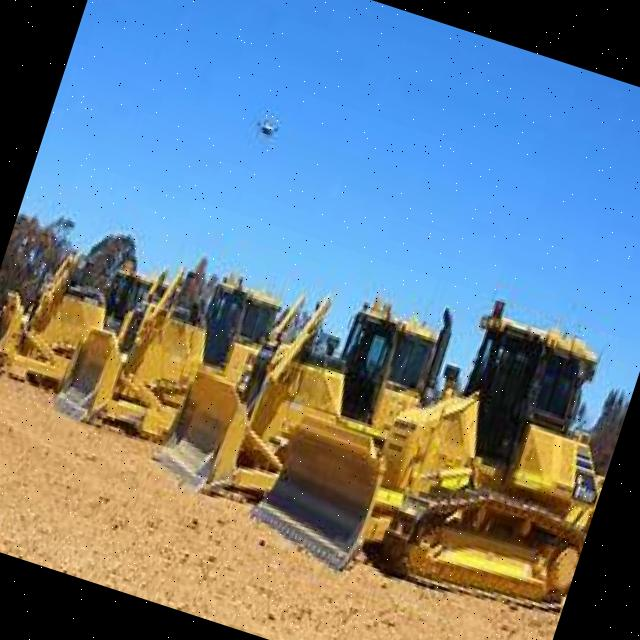Bulldozer: (253, 252, 640, 640), (150, 264, 359, 530), (61, 247, 234, 475), (0, 194, 138, 450)
